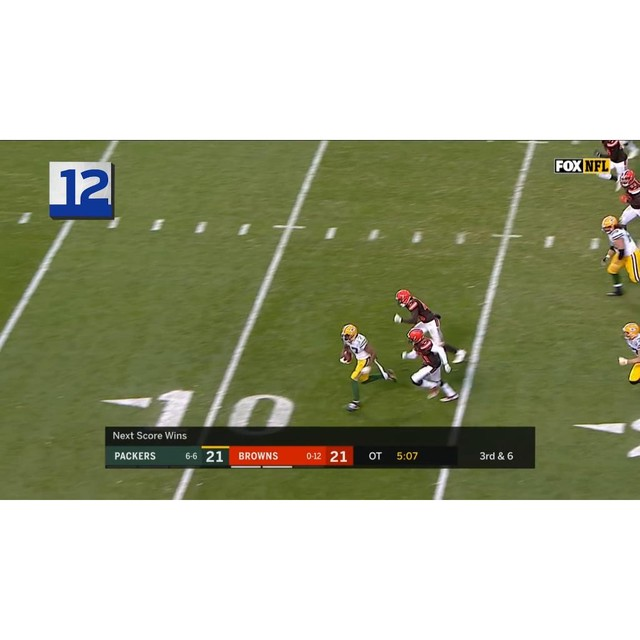american-football-player: (394, 288, 466, 368), (337, 323, 397, 409), (401, 328, 459, 403), (597, 216, 639, 299), (614, 169, 639, 251), (596, 140, 633, 186)
